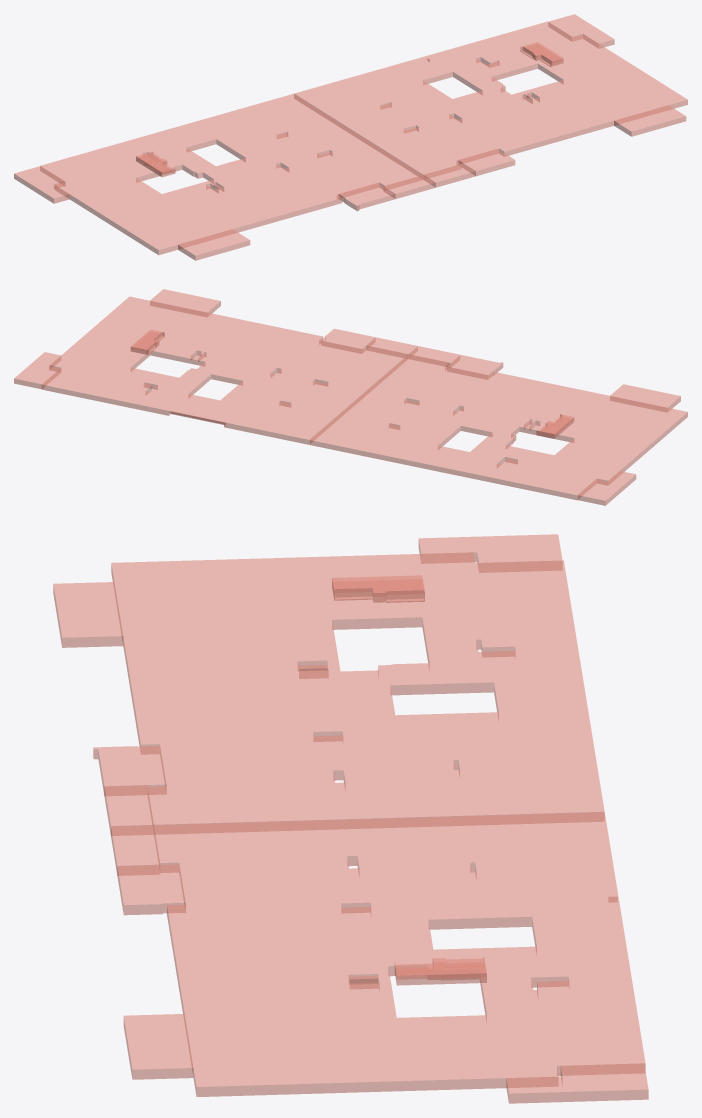
File: Level_01_structure.glb
3 views of the same model, one above another, from view 1: azimuth 30°, elevation 25°; view 2: azimuth 150°, elevation 25°; view 3: azimuth 270°, elevation 25° (orthographic). The views are drawn at different scales.
Visible parts, largest first — view 1: world; view 2: world; view 3: world.
Boxes of the visible parts, x1=… form: world: x1=14, y1=14, x2=687, y2=260; world: x1=14, y1=289, x2=687, y2=505; world: x1=53, y1=534, x2=648, y2=1103.
Size of the model in its own units: 41.71 by 1.81 by 18.76.
